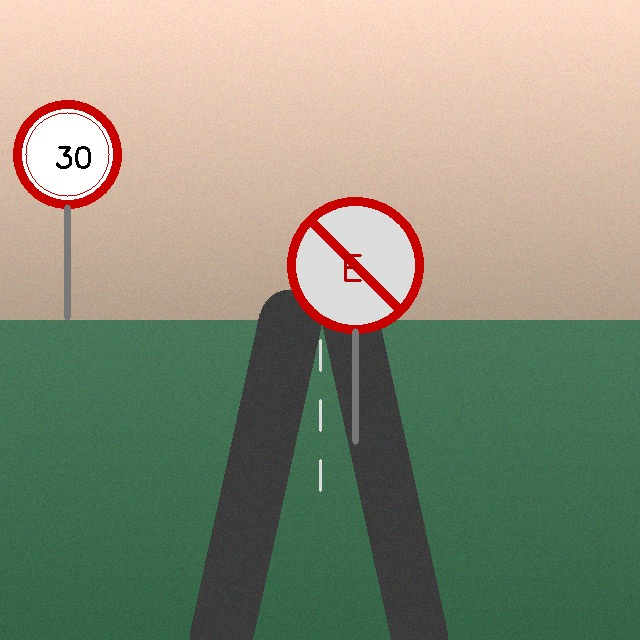no_estacionar: (289, 199, 421, 331)
velocidad: (15, 102, 120, 207)
